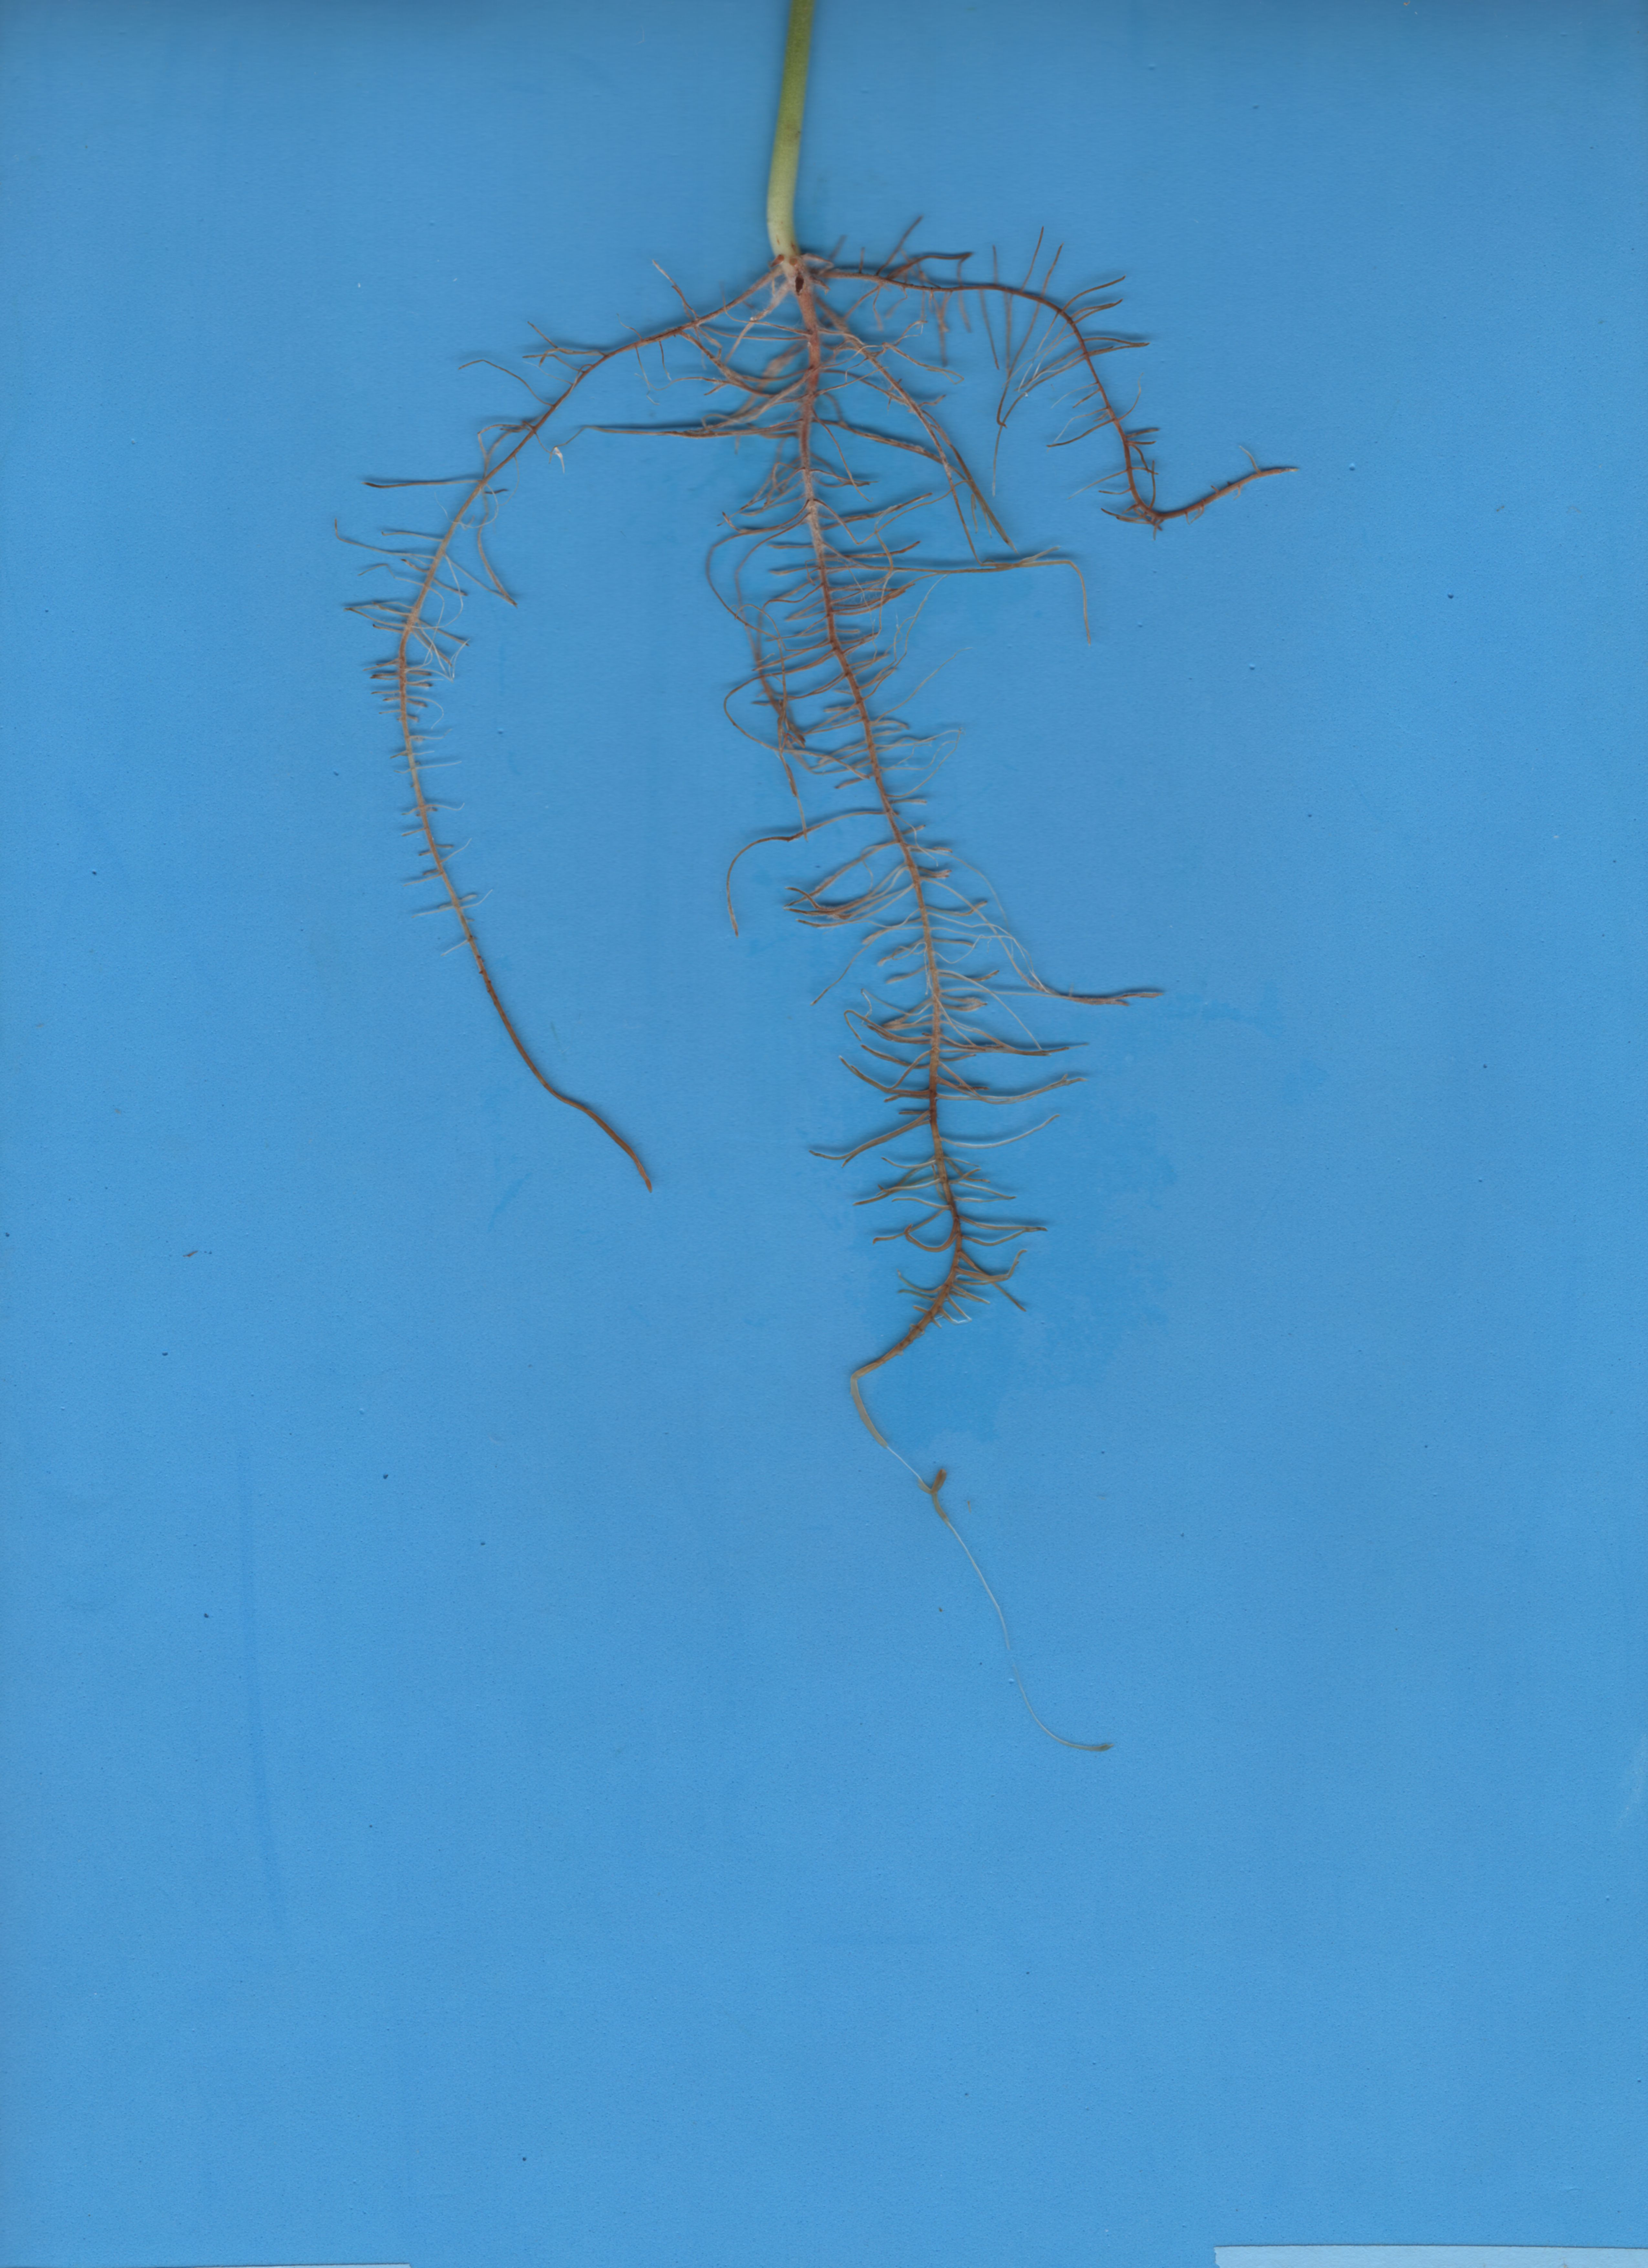CROWNGOOD: (711, 5, 880, 285)
ROOTDISEASE: (308, 225, 1329, 1583)
